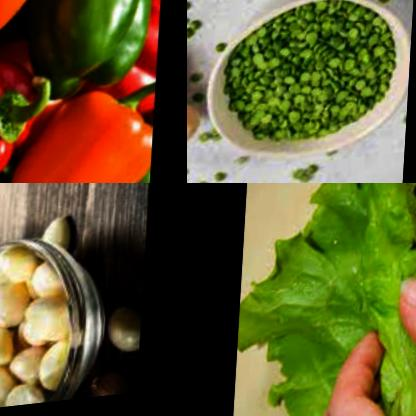bell pepper: (26, 0, 165, 104), (12, 92, 159, 183), (0, 51, 51, 183)
garlic: (0, 239, 85, 416), (103, 295, 146, 368), (37, 218, 86, 266), (85, 373, 142, 406)
peas: (222, 0, 402, 155), (187, 40, 231, 125), (191, 127, 234, 160), (221, 170, 322, 183), (187, 164, 252, 183), (187, 0, 212, 43), (371, 0, 396, 21), (402, 119, 410, 141)
salad: (232, 183, 416, 416)
